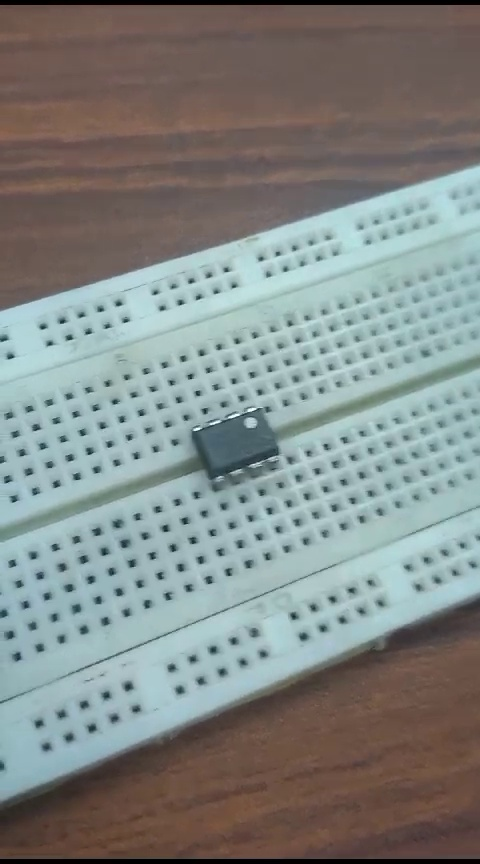IC: (177, 395, 304, 485)
